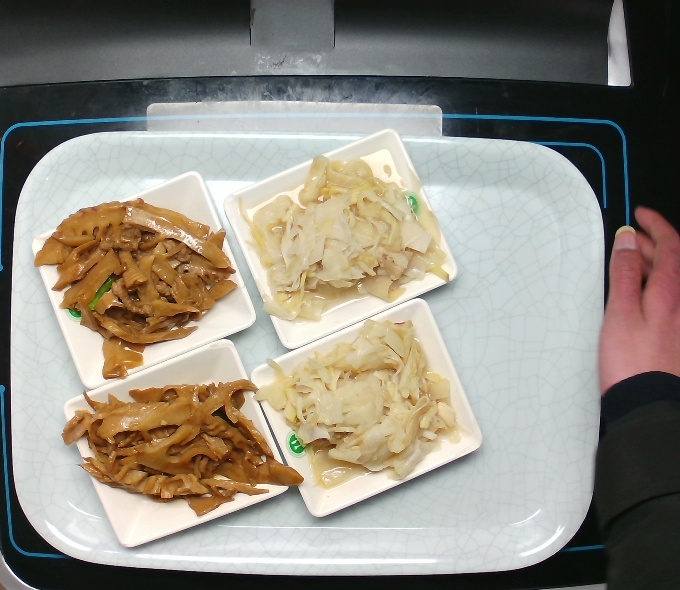wcq-LuSun: (252, 315, 470, 493), (246, 153, 452, 328)
wcq-SunGan: (34, 189, 234, 373), (66, 375, 311, 520)
